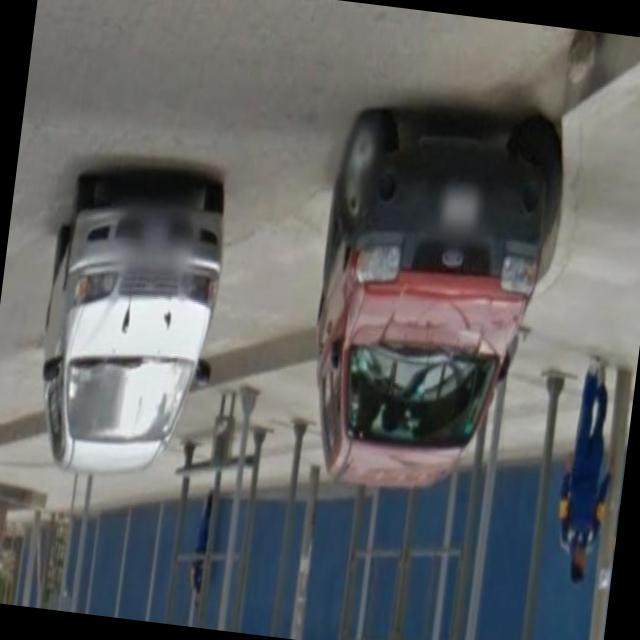car: (290, 92, 558, 505), (22, 157, 245, 494)
